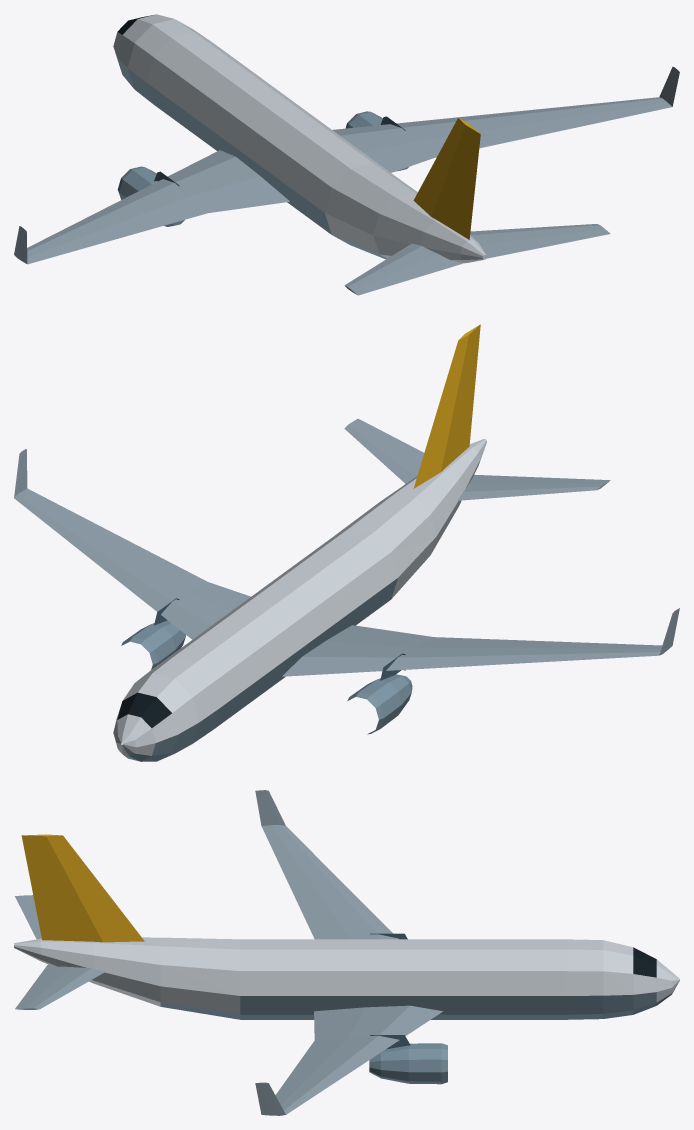
3 views of the same model, one above another, from view 1: azimuth 30°, elevation 25°; view 2: azimuth 150°, elevation 25°; view 3: azimuth 270°, elevation 25° (orthographic). The views are drawn at different scales.
Parts seen in each view (by area): view 1: lod0; view 2: lod0; view 3: lod0.
Part boxes in pixels (x1,y1,x2,y2): lod0: (14, 14, 679, 295); lod0: (14, 324, 679, 761); lod0: (14, 790, 679, 1115).
Size of what is drawn, in the model's own units: 1.04 by 0.3239 by 1.
